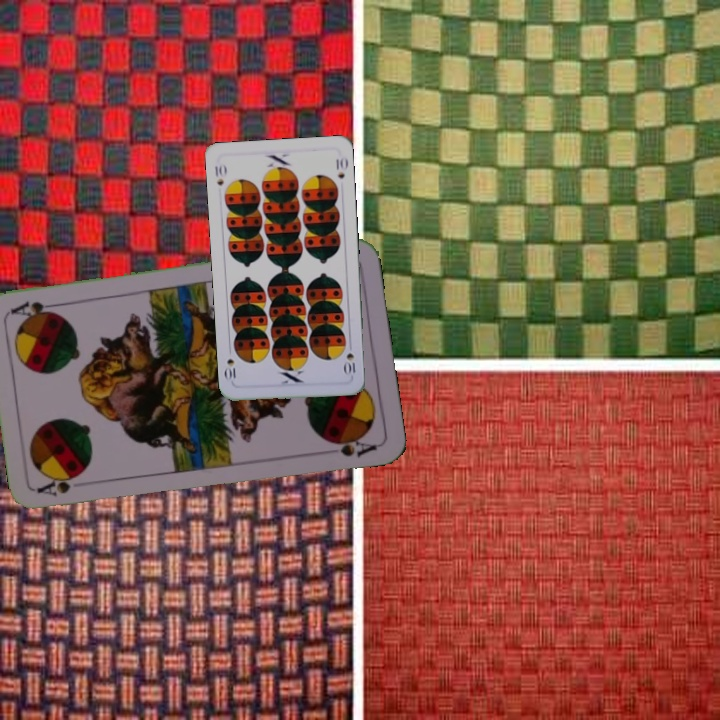S10: (341, 338, 358, 379), (211, 160, 229, 188)
SA: (34, 473, 82, 500)
